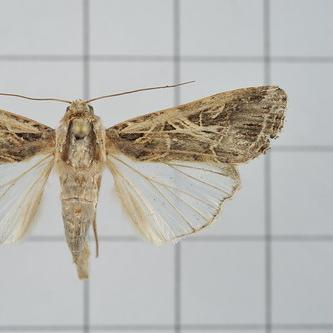Spodoptera litura: (1, 81, 287, 280)
